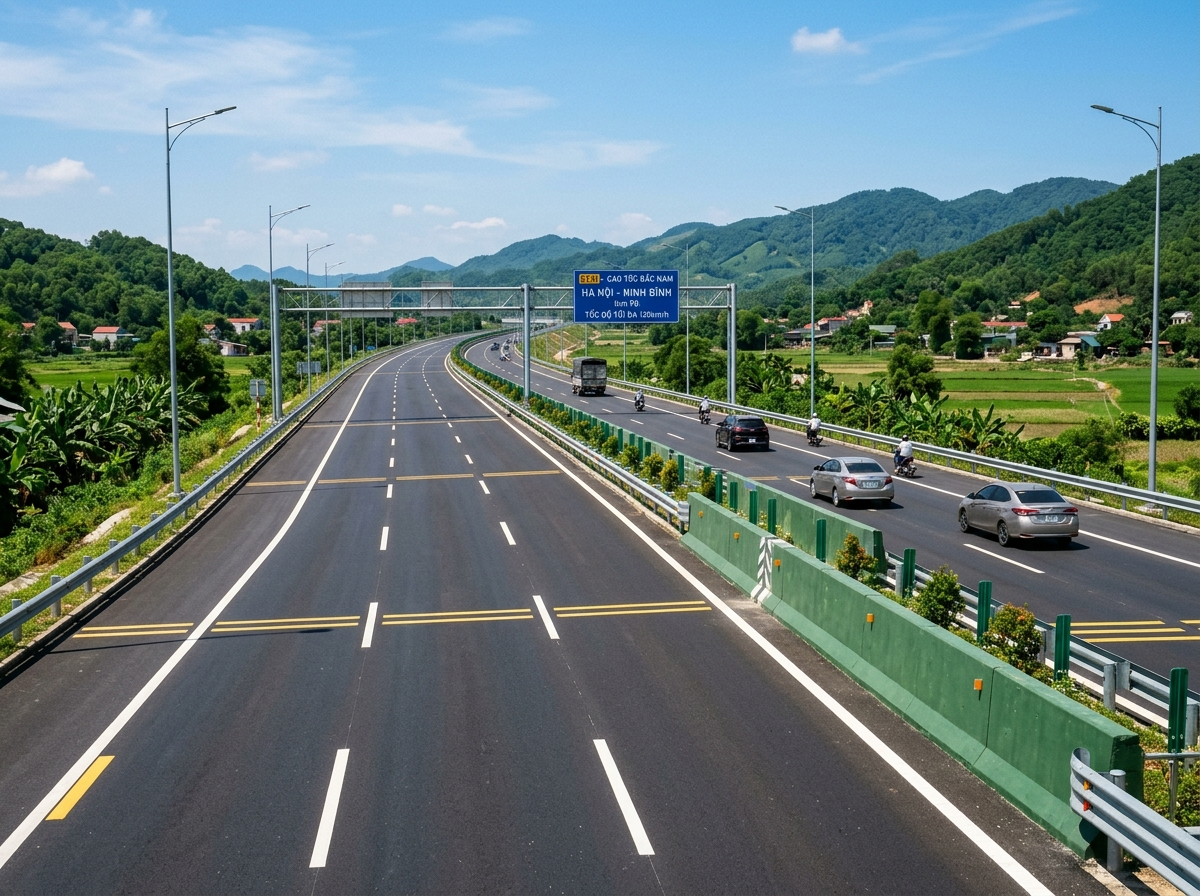ROAD_FLOODING: (78, 417, 1146, 820)
